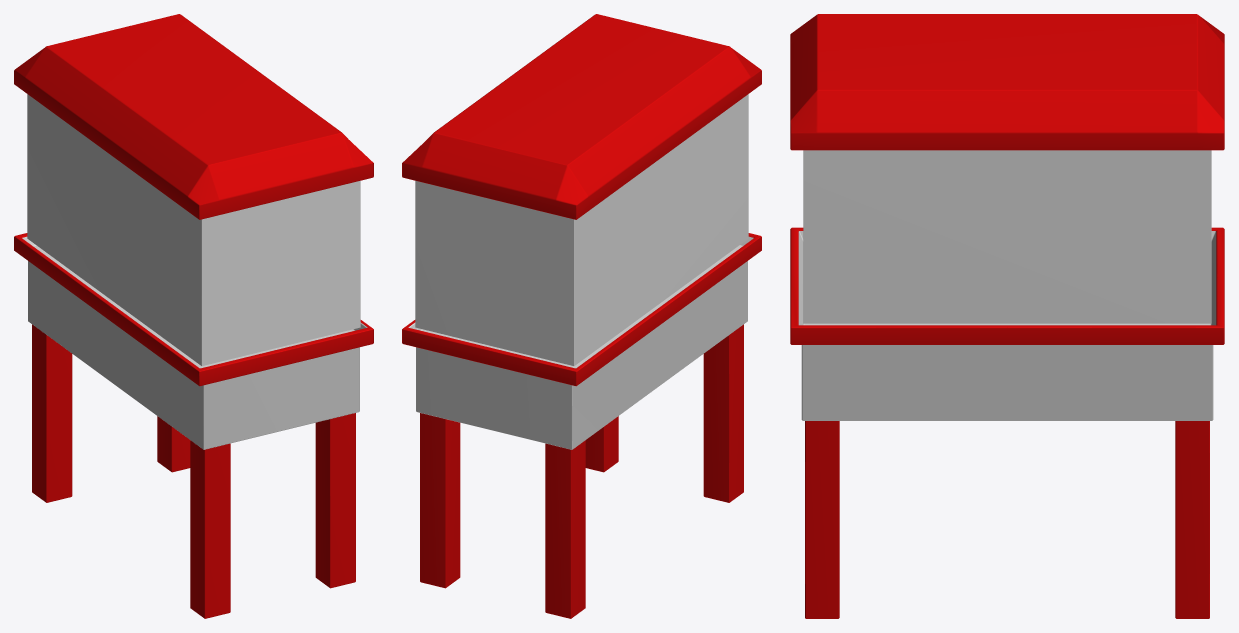
Rendered from SM_FishItemTank.fbx.
3 renders of one model, left to right at view 1: azimuth 30°, elevation 25°; view 2: azimuth 150°, elevation 25°; view 3: azimuth 270°, elevation 25°, orthographic. The views are drawn at different scales.
Visible parts, largest first — view 1: Mesh_FishTank_Base, Mesh_FishTank_Glass.001; view 2: Mesh_FishTank_Base, Mesh_FishTank_Glass.001; view 3: Mesh_FishTank_Base, Mesh_FishTank_Glass.001.
Part boxes in pixels (x1,y1,x2,y2): Mesh_FishTank_Base: (14, 14, 373, 618); Mesh_FishTank_Glass.001: (27, 94, 360, 365); Mesh_FishTank_Base: (402, 14, 761, 618); Mesh_FishTank_Glass.001: (415, 94, 748, 365); Mesh_FishTank_Base: (790, 14, 1224, 618); Mesh_FishTank_Glass.001: (803, 150, 1211, 323).
Size of the model in its own units: 55.77 by 102 by 136.
